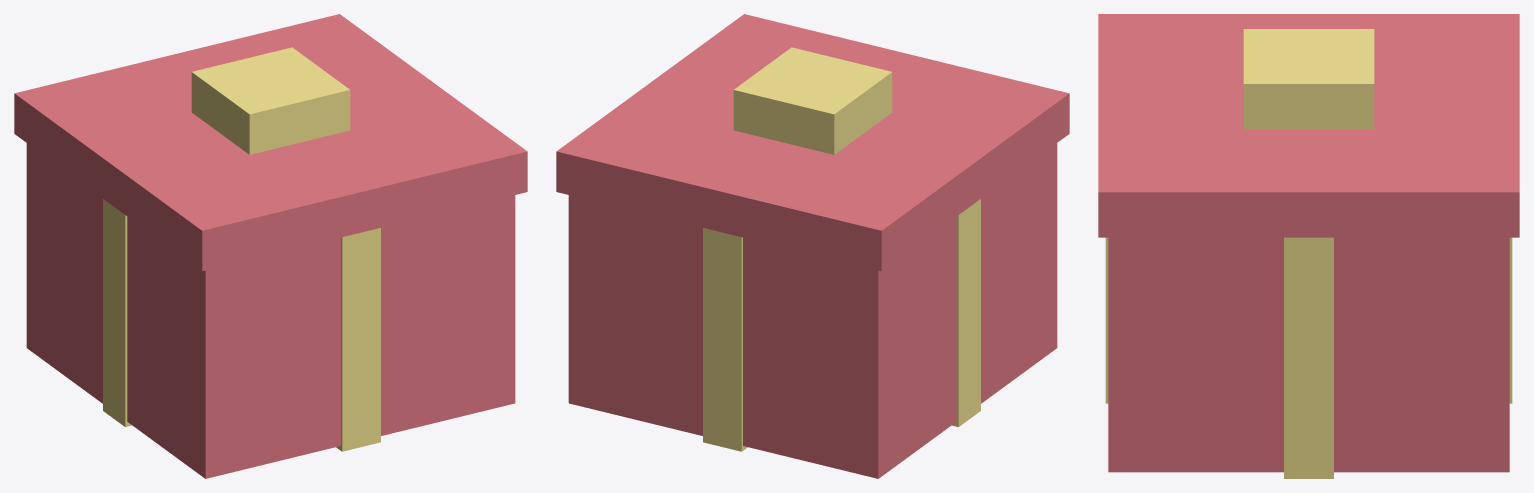
The model's file is giftBox.glb.
3 renders of one model, left to right at view 1: azimuth 30°, elevation 25°; view 2: azimuth 150°, elevation 25°; view 3: azimuth 270°, elevation 25°, orthographic. The views are drawn at different scales.
Visible parts, largest first — view 1: giftBox; view 2: giftBox; view 3: giftBox.
Boxes of the visible parts, x1,y1,x2,y2 form: giftBox: [14, 14, 527, 478]; giftBox: [556, 14, 1069, 478]; giftBox: [1098, 14, 1519, 478].
Bounding box in the file's own units: 0.168 × 0.148 × 0.168.
